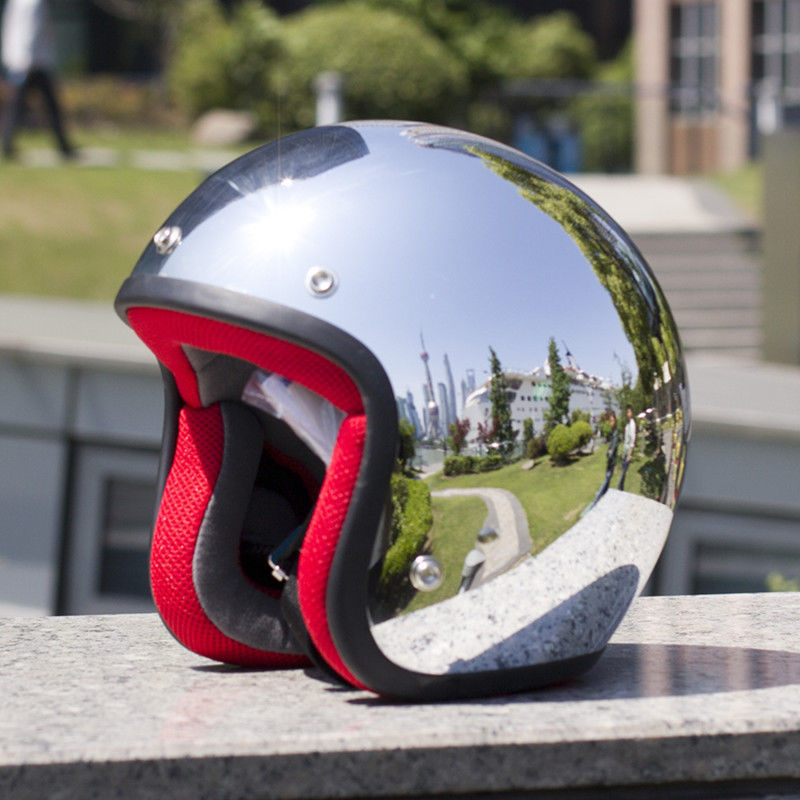with_helmet: (111, 123, 700, 673)
